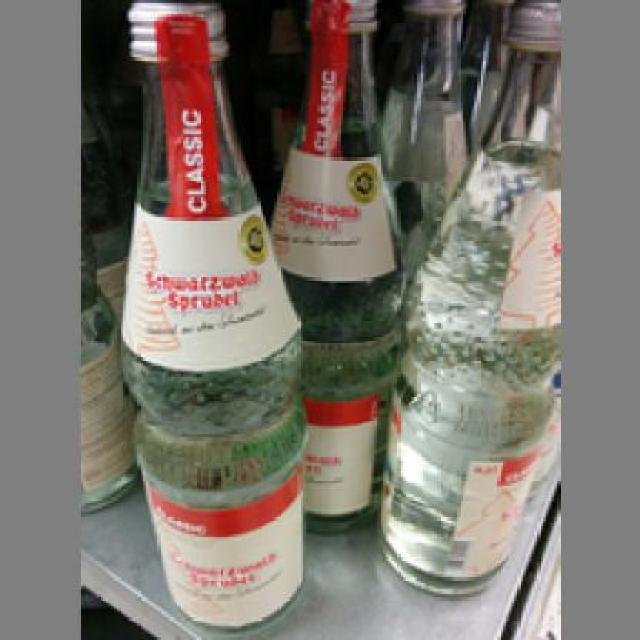Water: (116, 0, 309, 632), (383, 0, 551, 597), (269, 0, 400, 529)
